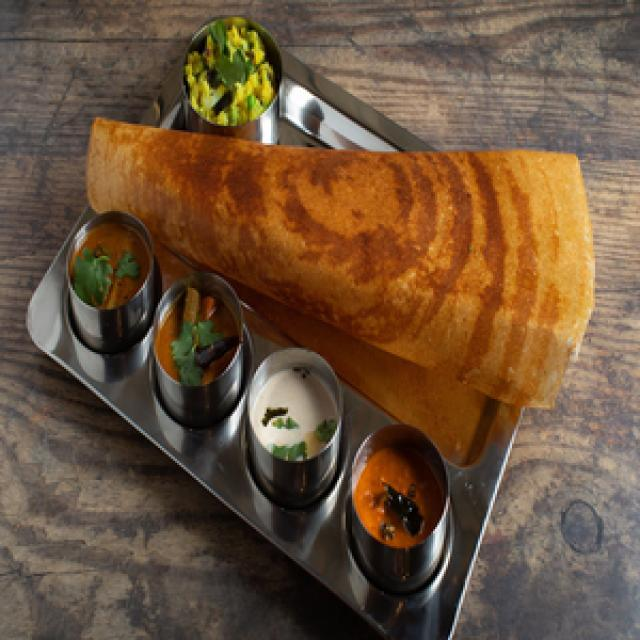dosa: (72, 103, 612, 430)
